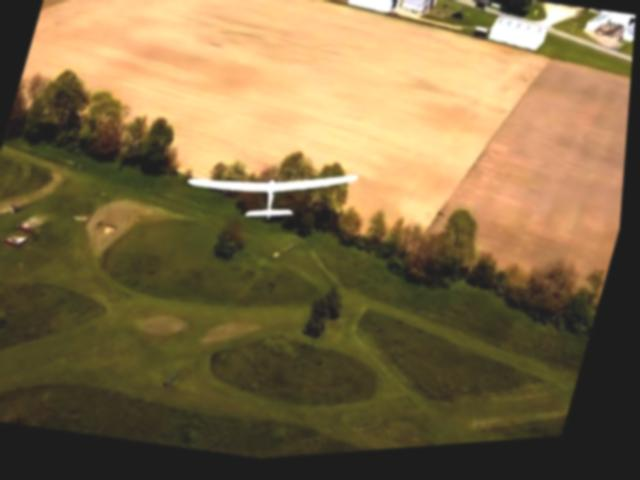iha: (179, 134, 370, 249)
